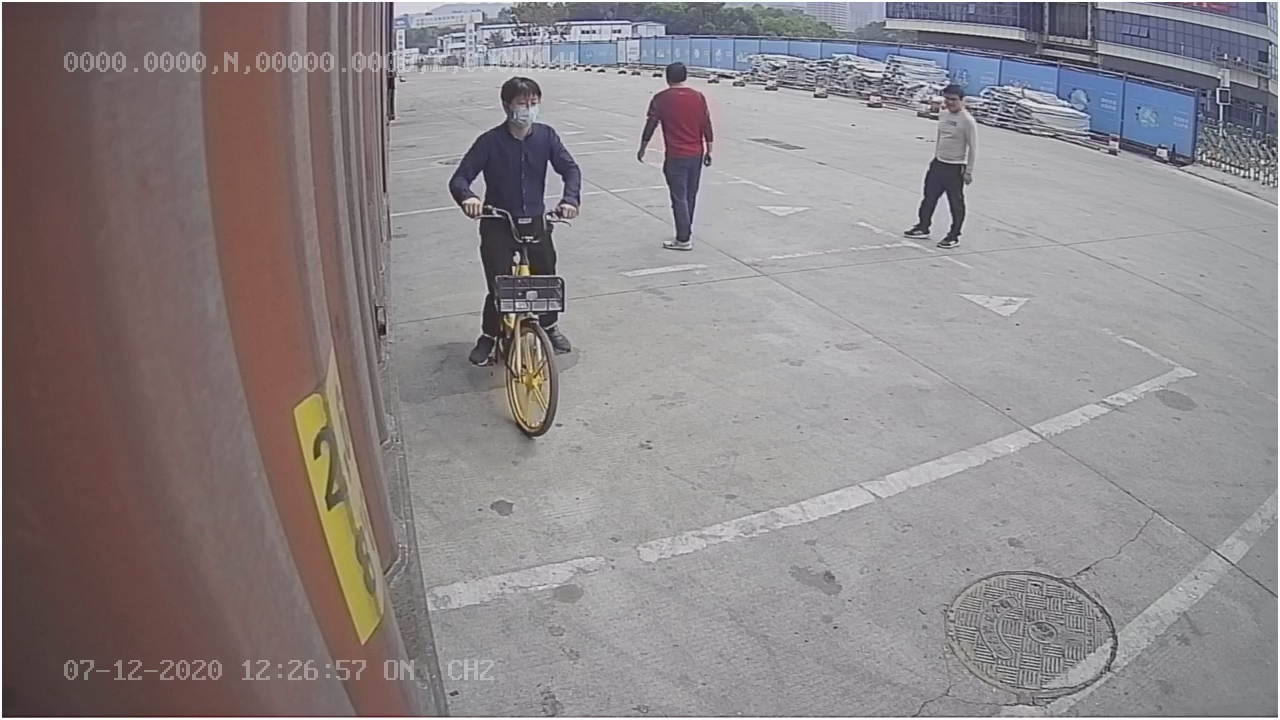person: (627, 56, 720, 256)
